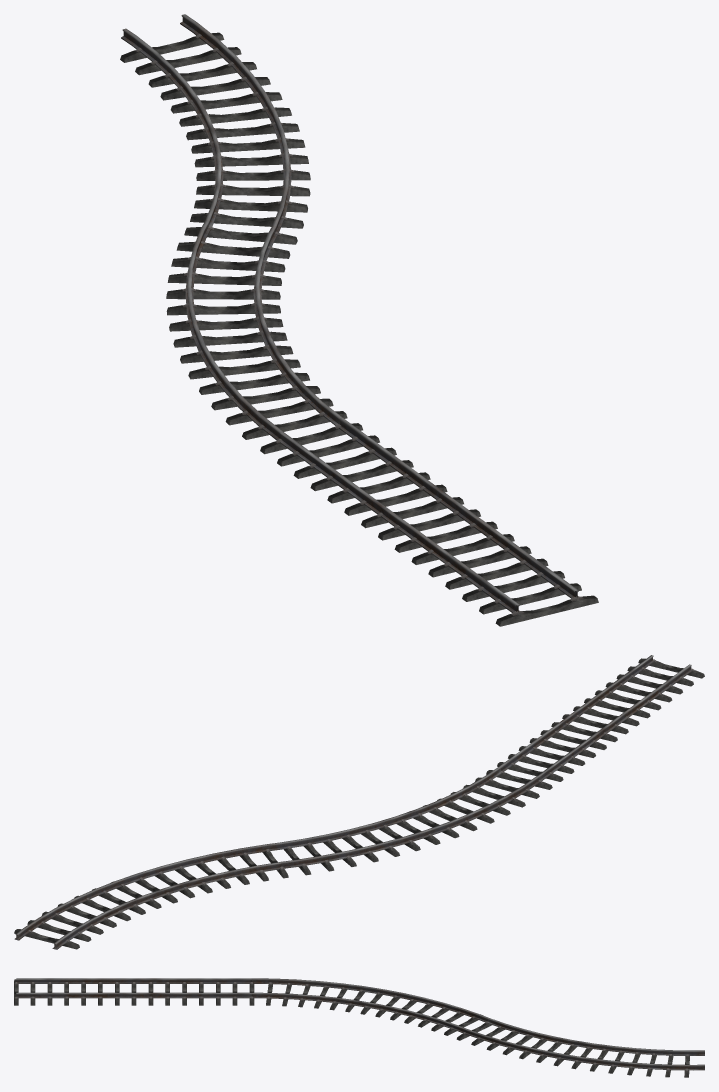
The model's file is rails.gltf.
The picture shows the model from 3 angles, top to bottom: view 1: azimuth 30°, elevation 25°; view 2: azimuth 150°, elevation 25°; view 3: azimuth 270°, elevation 25°; orthographic projection. The views are drawn at different scales.
Visible parts, largest first — view 1: defaultMaterial (×6); view 2: defaultMaterial (×4); view 3: defaultMaterial (×4).
Boxes of the visible parts, bbox=[...] form: defaultMaterial (×6): bbox=[121, 14, 598, 626]; defaultMaterial (×4): bbox=[14, 655, 691, 949]; defaultMaterial (×4): bbox=[16, 978, 704, 1070].
Bounding box in the file's own units: 0.6595 × 0.0242 × 2.
Materials: 2 (2 with a texture image).
